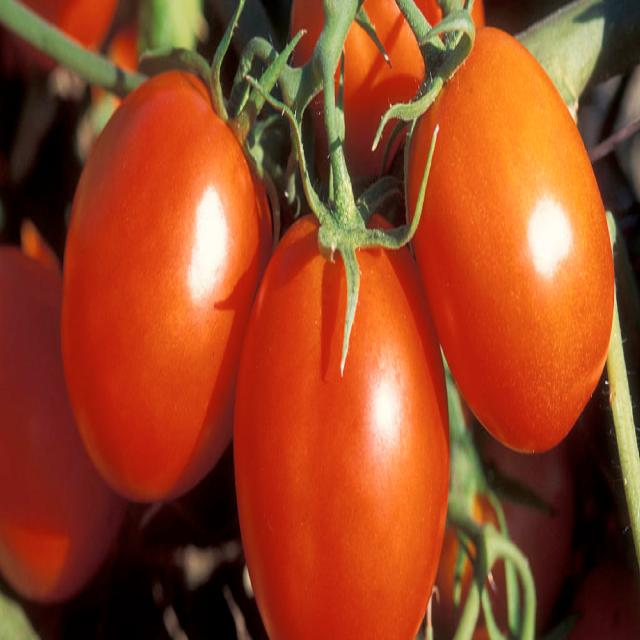level 6: (62, 58, 279, 505), (233, 206, 450, 640), (406, 23, 615, 454), (0, 244, 127, 600), (285, 0, 488, 213), (2, 0, 122, 89)
